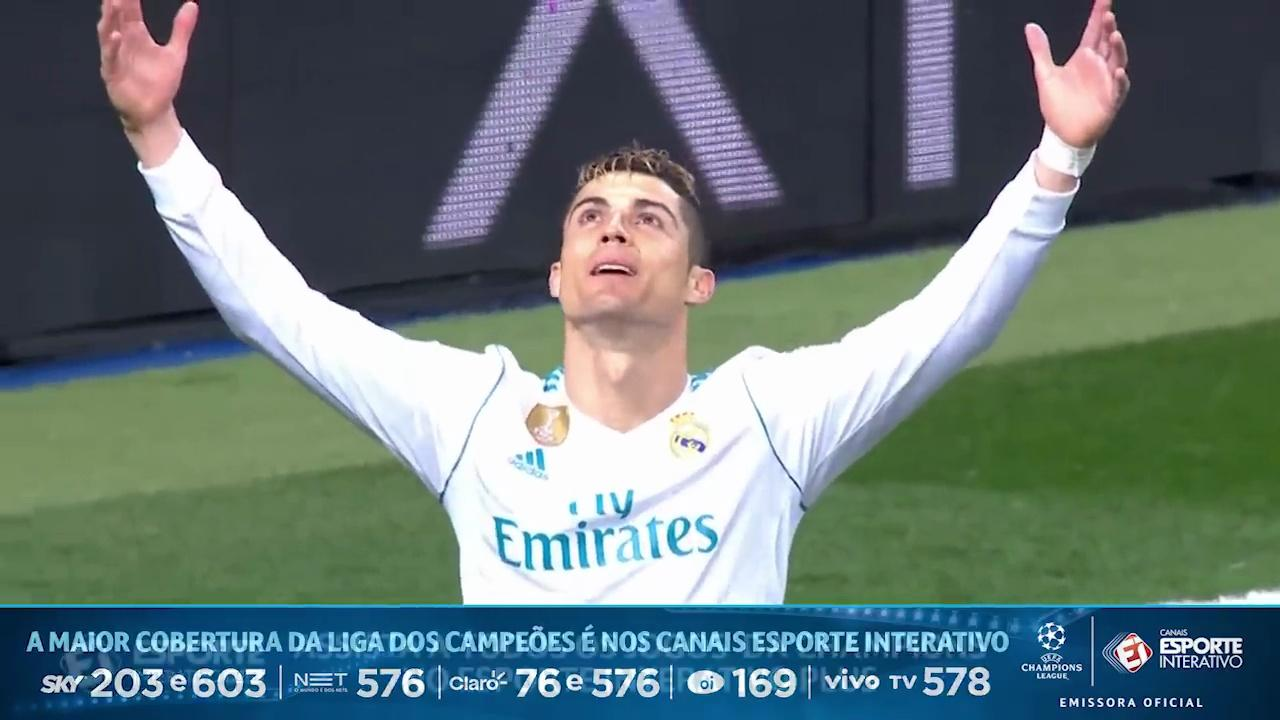player: (99, 0, 1128, 603)
